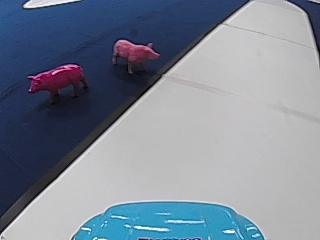pig: (23, 60, 88, 104), (110, 35, 160, 74)
